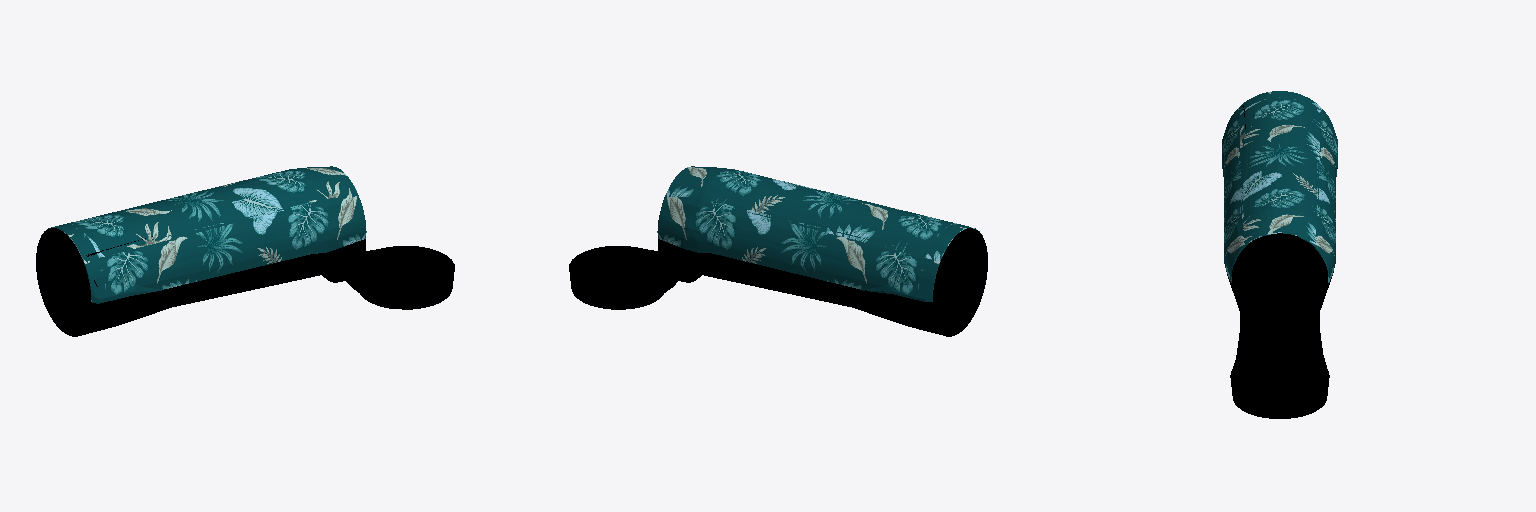
The picture shows the model from 3 angles: view 1: azimuth 30°, elevation 25°; view 2: azimuth 150°, elevation 25°; view 3: azimuth 270°, elevation 25°; orthographic projection.
Visible parts, largest first — view 1: arm0.link_el1.002; view 2: arm0.link_el1.002; view 3: arm0.link_el1.002.
Boxes of the visible parts, x1,y1,x2,y2 form: arm0.link_el1.002: [36, 166, 454, 336]; arm0.link_el1.002: [569, 166, 987, 336]; arm0.link_el1.002: [1222, 91, 1337, 418].
Bounding box in the file's own units: 0.2973 × 0.1058 × 0.0782.
Materials: 2 (1 with a texture image).